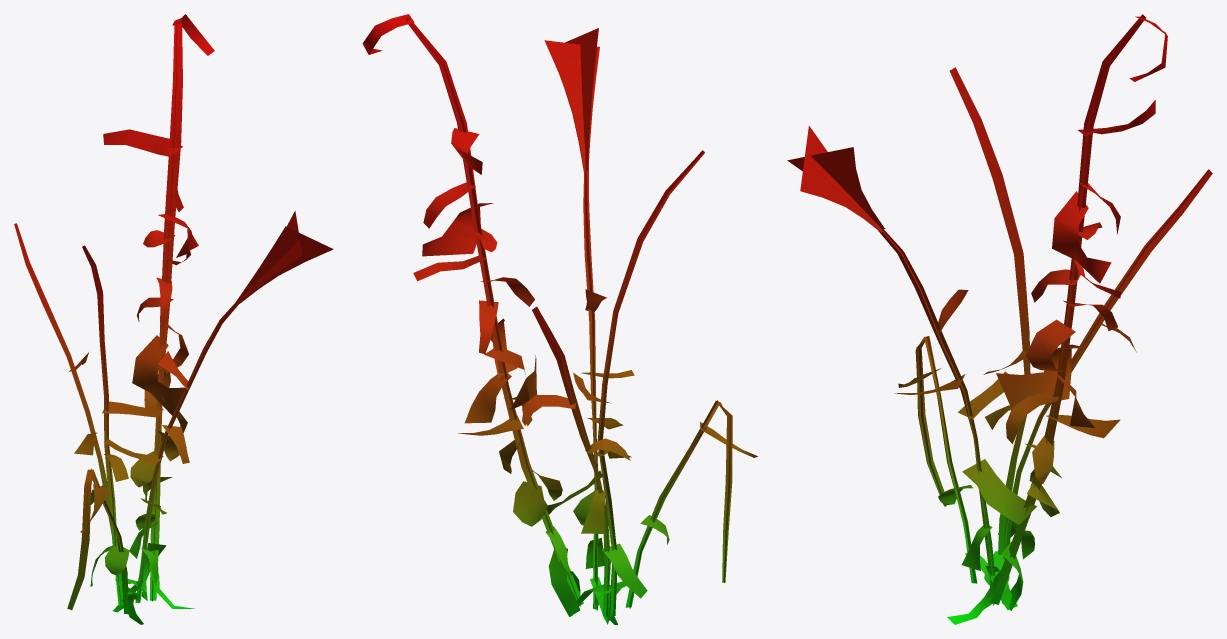
The model's file is Willowherb_LOD1_Var4_tbfpbbhr.fbx.
3 views of the same model, side by side, from view 1: azimuth 30°, elevation 25°; view 2: azimuth 150°, elevation 25°; view 3: azimuth 270°, elevation 25° (orthographic). The views are drawn at different scales.
Parts seen in each view (by area): view 1: _faff_Var4_LOD1; view 2: _faff_Var4_LOD1; view 3: _faff_Var4_LOD1.
Boxes of the visible parts, box(x1,y1,x2,y2) form: _faff_Var4_LOD1: box(14, 14, 333, 624); _faff_Var4_LOD1: box(362, 14, 757, 624); _faff_Var4_LOD1: box(787, 14, 1212, 624).
Size of the model in its own units: 7.91 by 17.48 by 10.22.
